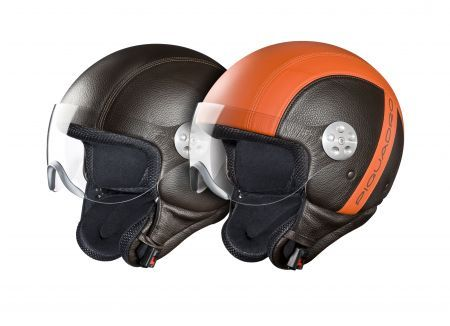helmet: (230, 38, 419, 186), (38, 35, 200, 187)
